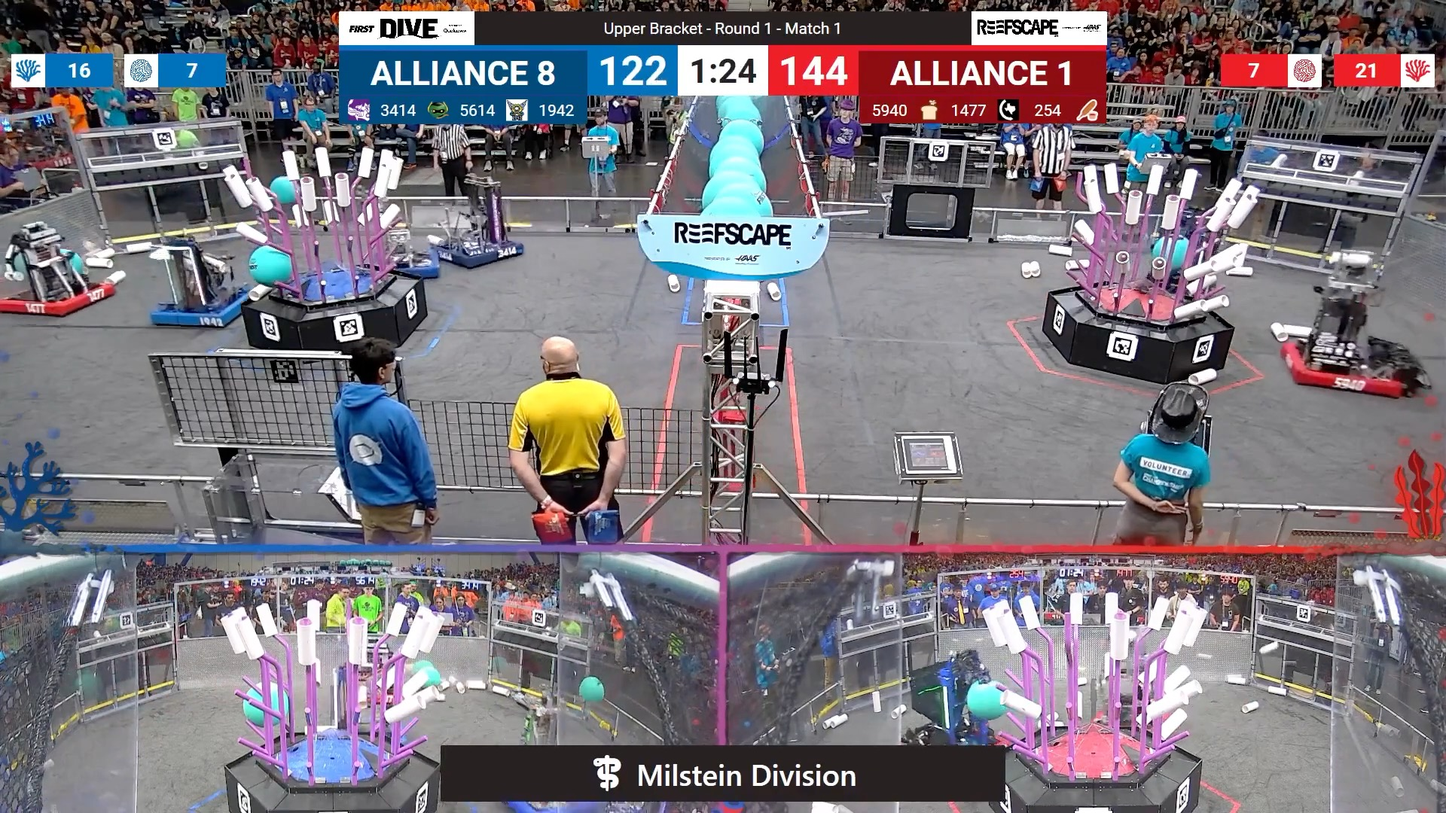bumpers: (1277, 331, 1429, 404), (144, 283, 259, 333), (4, 278, 124, 324), (413, 236, 530, 272), (375, 252, 451, 279)
